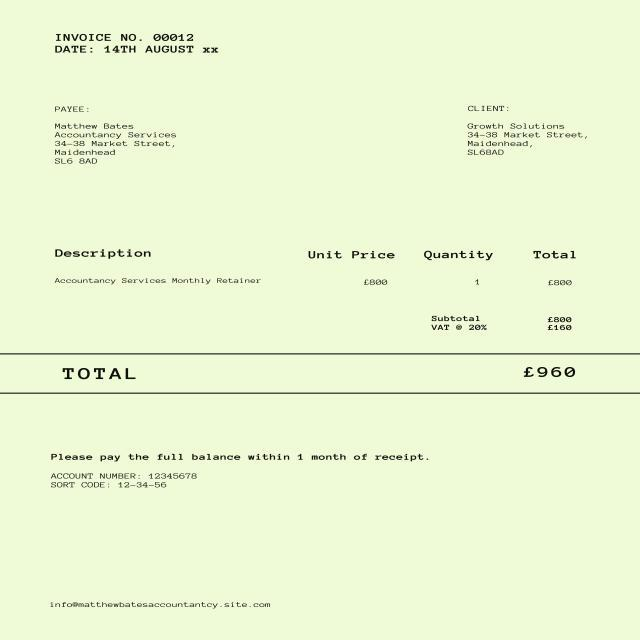customer_address: (52, 131, 178, 166)
customer_name: (51, 120, 142, 131)
invoice_date: (100, 43, 224, 58)
invoice_number: (150, 30, 199, 42)
invoice_subtotal: (545, 313, 577, 324)
invoice_total: (514, 360, 582, 384)
item_description: (50, 269, 266, 291)
item_quantity: (467, 274, 488, 292)
item_total_price: (542, 273, 576, 290)
item_unit_price: (353, 270, 400, 297)
tax_amount: (545, 323, 575, 333)
tax_rate: (466, 324, 490, 332)
